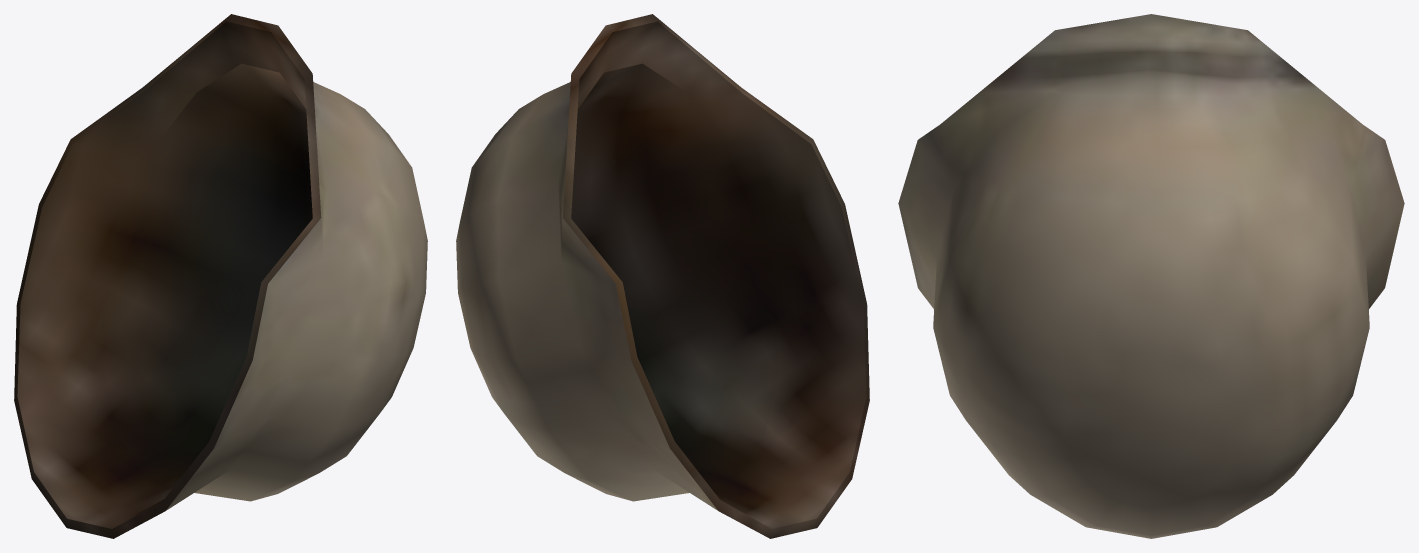
The model's file is prop_helmet_german_africa.glb.
3 renders of one model, left to right at view 1: azimuth 30°, elevation 25°; view 2: azimuth 150°, elevation 25°; view 3: azimuth 270°, elevation 25°, orthographic. The views are drawn at different scales.
Bounding box in the file's own units: 9.23 × 11.86 × 10.19.
1 material, 1 textured.
